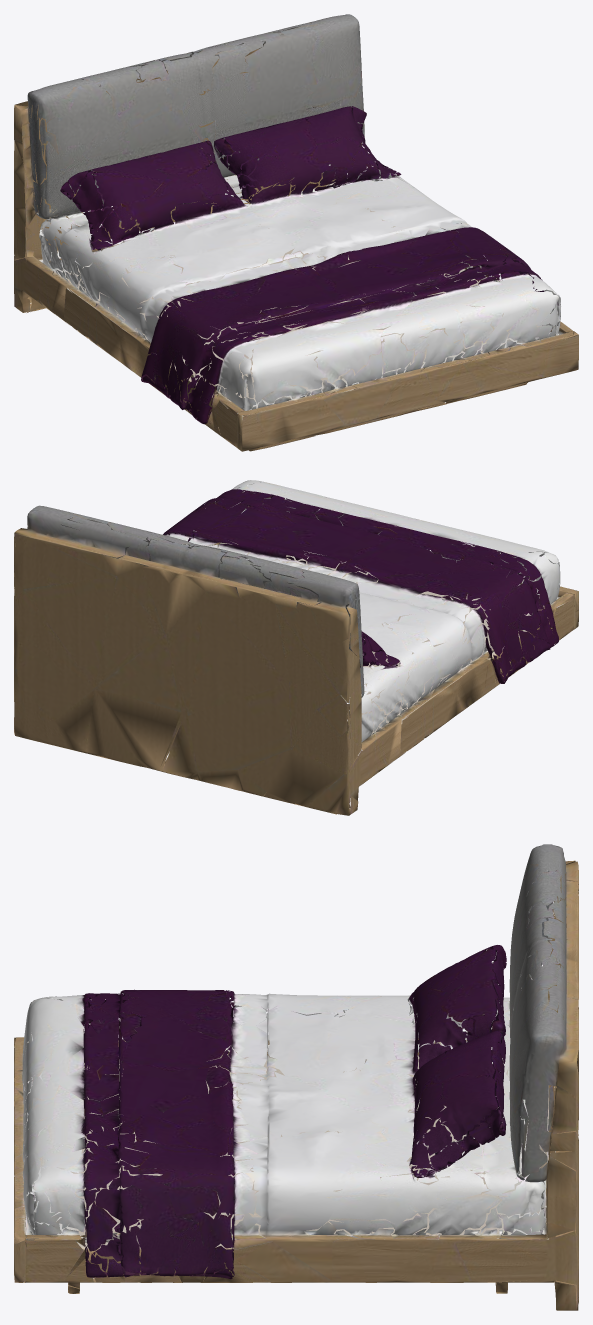
The model's file is bed.glb.
The picture shows the model from 3 angles, top to bottom: view 1: azimuth 30°, elevation 25°; view 2: azimuth 150°, elevation 25°; view 3: azimuth 270°, elevation 25°; orthographic projection. The views are drawn at different scales.
Bounding box in the file's own units: 1.77 × 1.02 × 1.9.
Materials: 1 (1 with a texture image).
